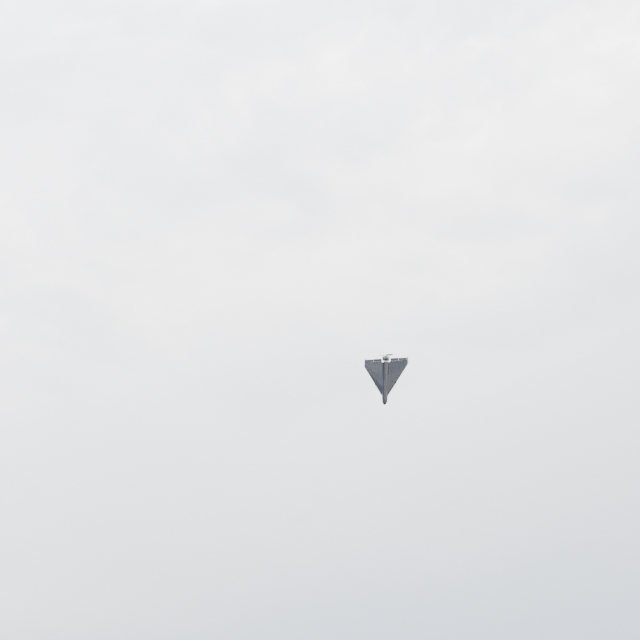shahed: (364, 354, 408, 405)
